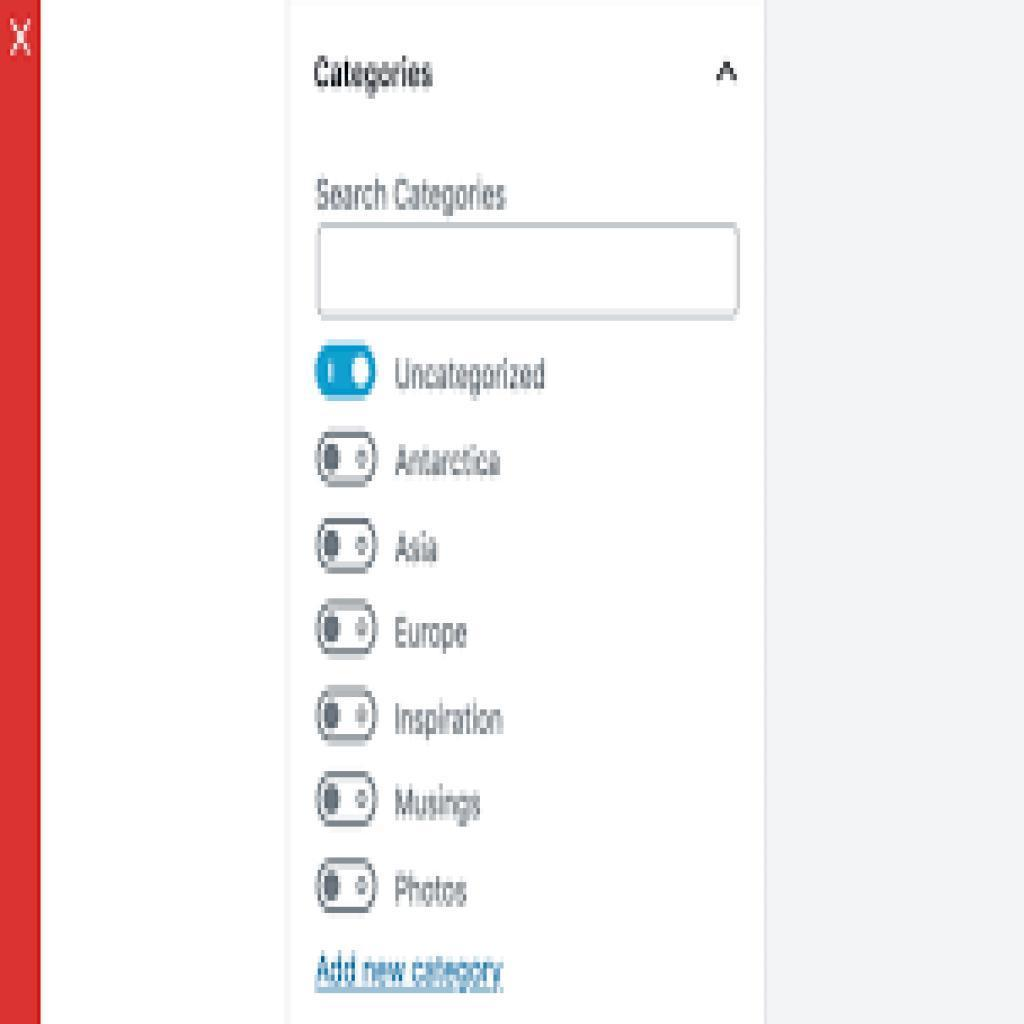dropdown: (297, 38, 752, 141)
input: (315, 223, 744, 325)
switch: (311, 334, 382, 408), (315, 685, 383, 749), (312, 427, 381, 490), (313, 512, 379, 576), (313, 599, 381, 660), (317, 855, 380, 920), (314, 769, 381, 828)
